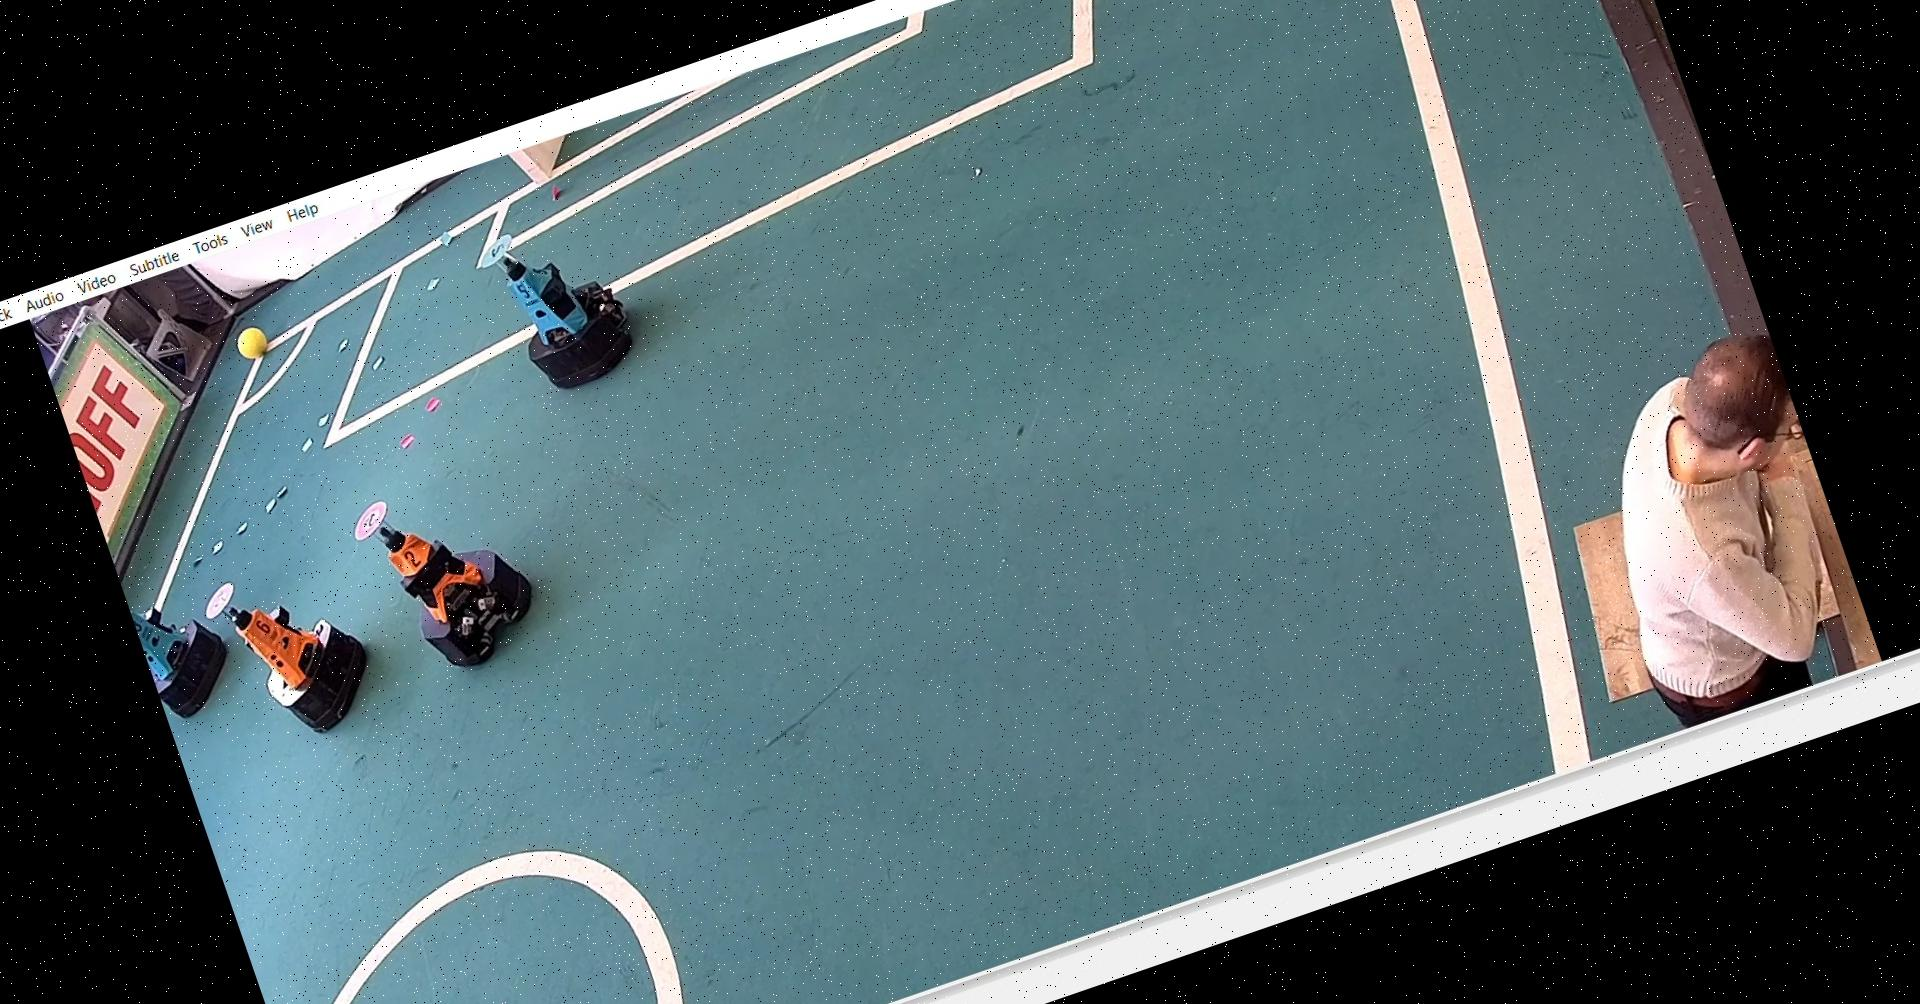Ball: (230, 322, 273, 366)
Team_Blue: (469, 192, 659, 407), (124, 564, 262, 723)
Team_Red: (340, 451, 555, 690), (198, 545, 381, 753)
